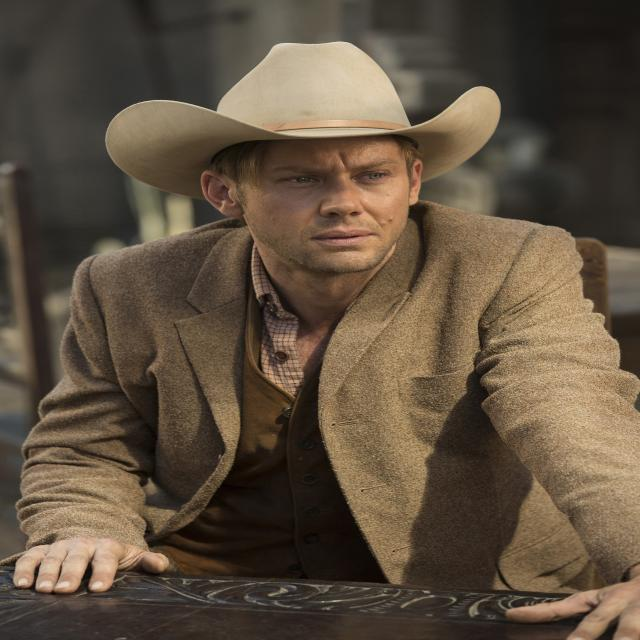human: (73, 45, 640, 640)
